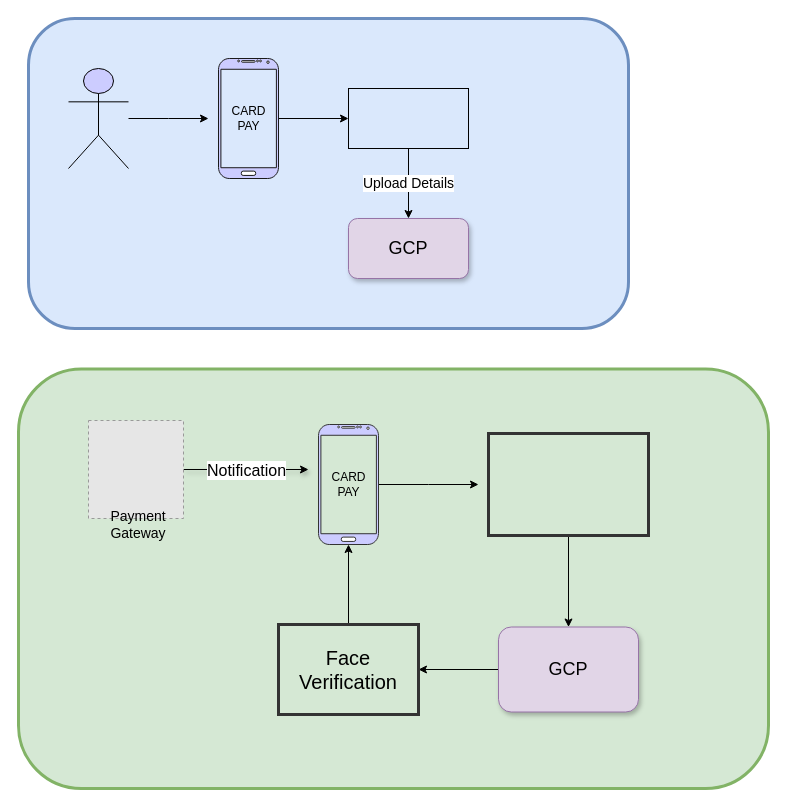
The diagram is 787 pixels wide and 807 high, and some of its shapes have lost their labels. Grey dashed boxes stand in for pictures. Here are the shapes that lost their labels. From the top down, the centre of each, then its label:
the point at 98,118: Actor
the point at 408,118: Registration
the point at 568,484: Face Capturing
